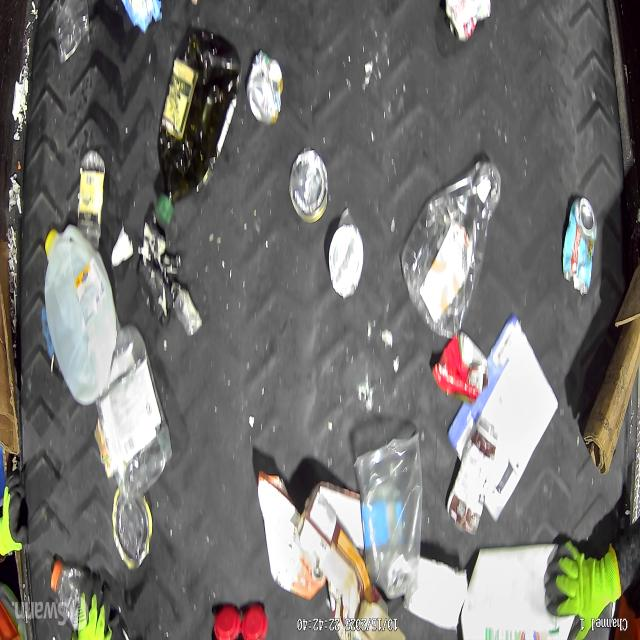can: (562, 196, 598, 298), (433, 333, 487, 401), (327, 205, 365, 300), (246, 51, 283, 128), (444, 1, 488, 44)
milk_jug: (43, 225, 115, 408)
non_white_jug: (155, 29, 242, 229)
plastic_bottle: (402, 161, 502, 348), (94, 325, 172, 502), (48, 557, 100, 625)
